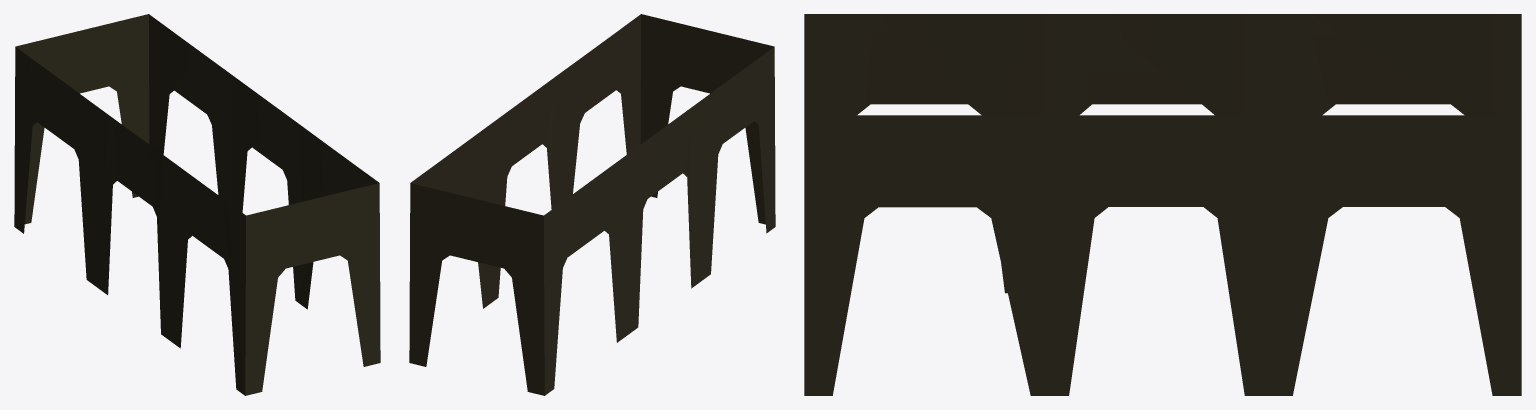
Rendered from Road_Straight_Bridge.fbx.
The picture shows the model from 3 angles, left to right: view 1: azimuth 30°, elevation 25°; view 2: azimuth 150°, elevation 25°; view 3: azimuth 270°, elevation 25°; orthographic projection. The views are drawn at different scales.
Parts seen in each view (by area): view 1: Road_Straight_Bridge; view 2: Road_Straight_Bridge; view 3: Road_Straight_Bridge.
Part boxes in pixels (x1,y1,x2,y2): Road_Straight_Bridge: (14,14,380,395); Road_Straight_Bridge: (409,14,775,395); Road_Straight_Bridge: (804,14,1521,395).
Size of the model in its own units: 0.2958 by 0.8745 by 0.3768.
